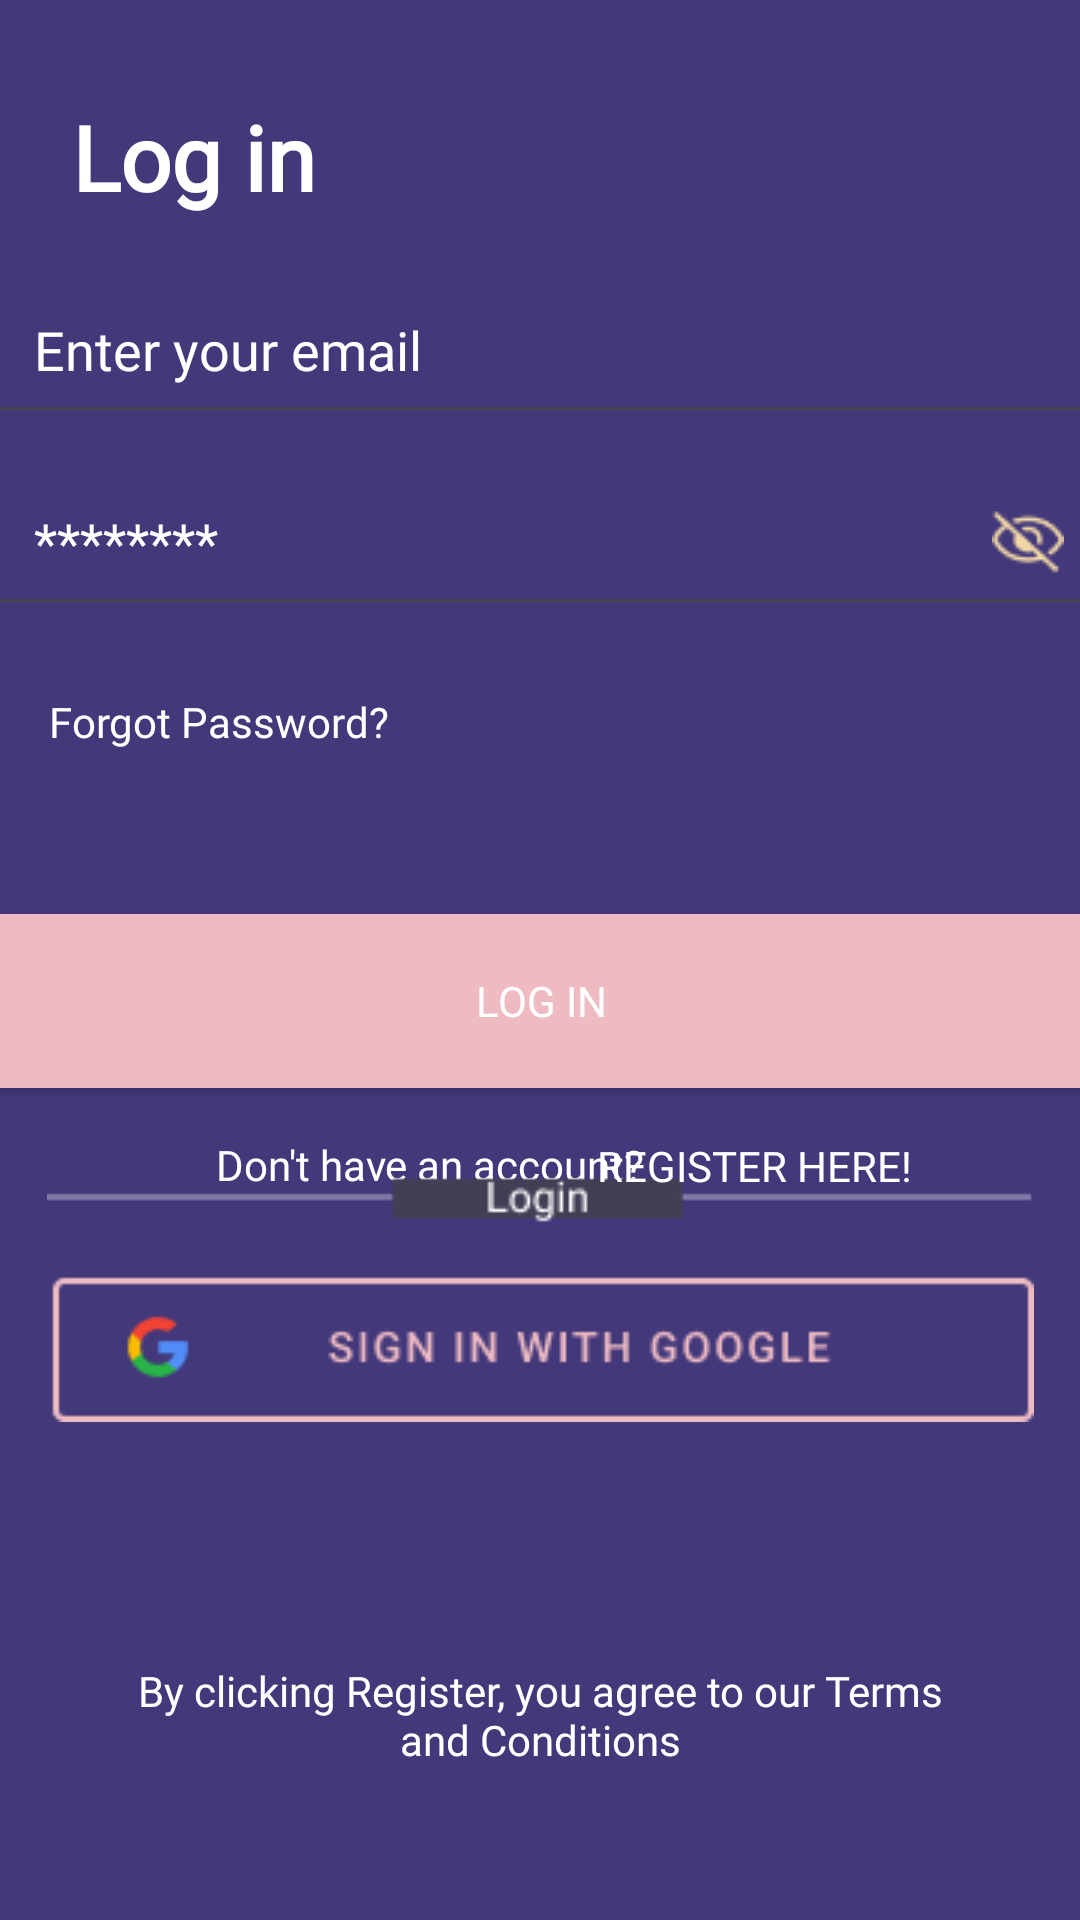

Icons on this 1080px×1920px Android screen, each with its box as (x1, y1, x2, y2):
visibility off: (992, 511, 1064, 573)
